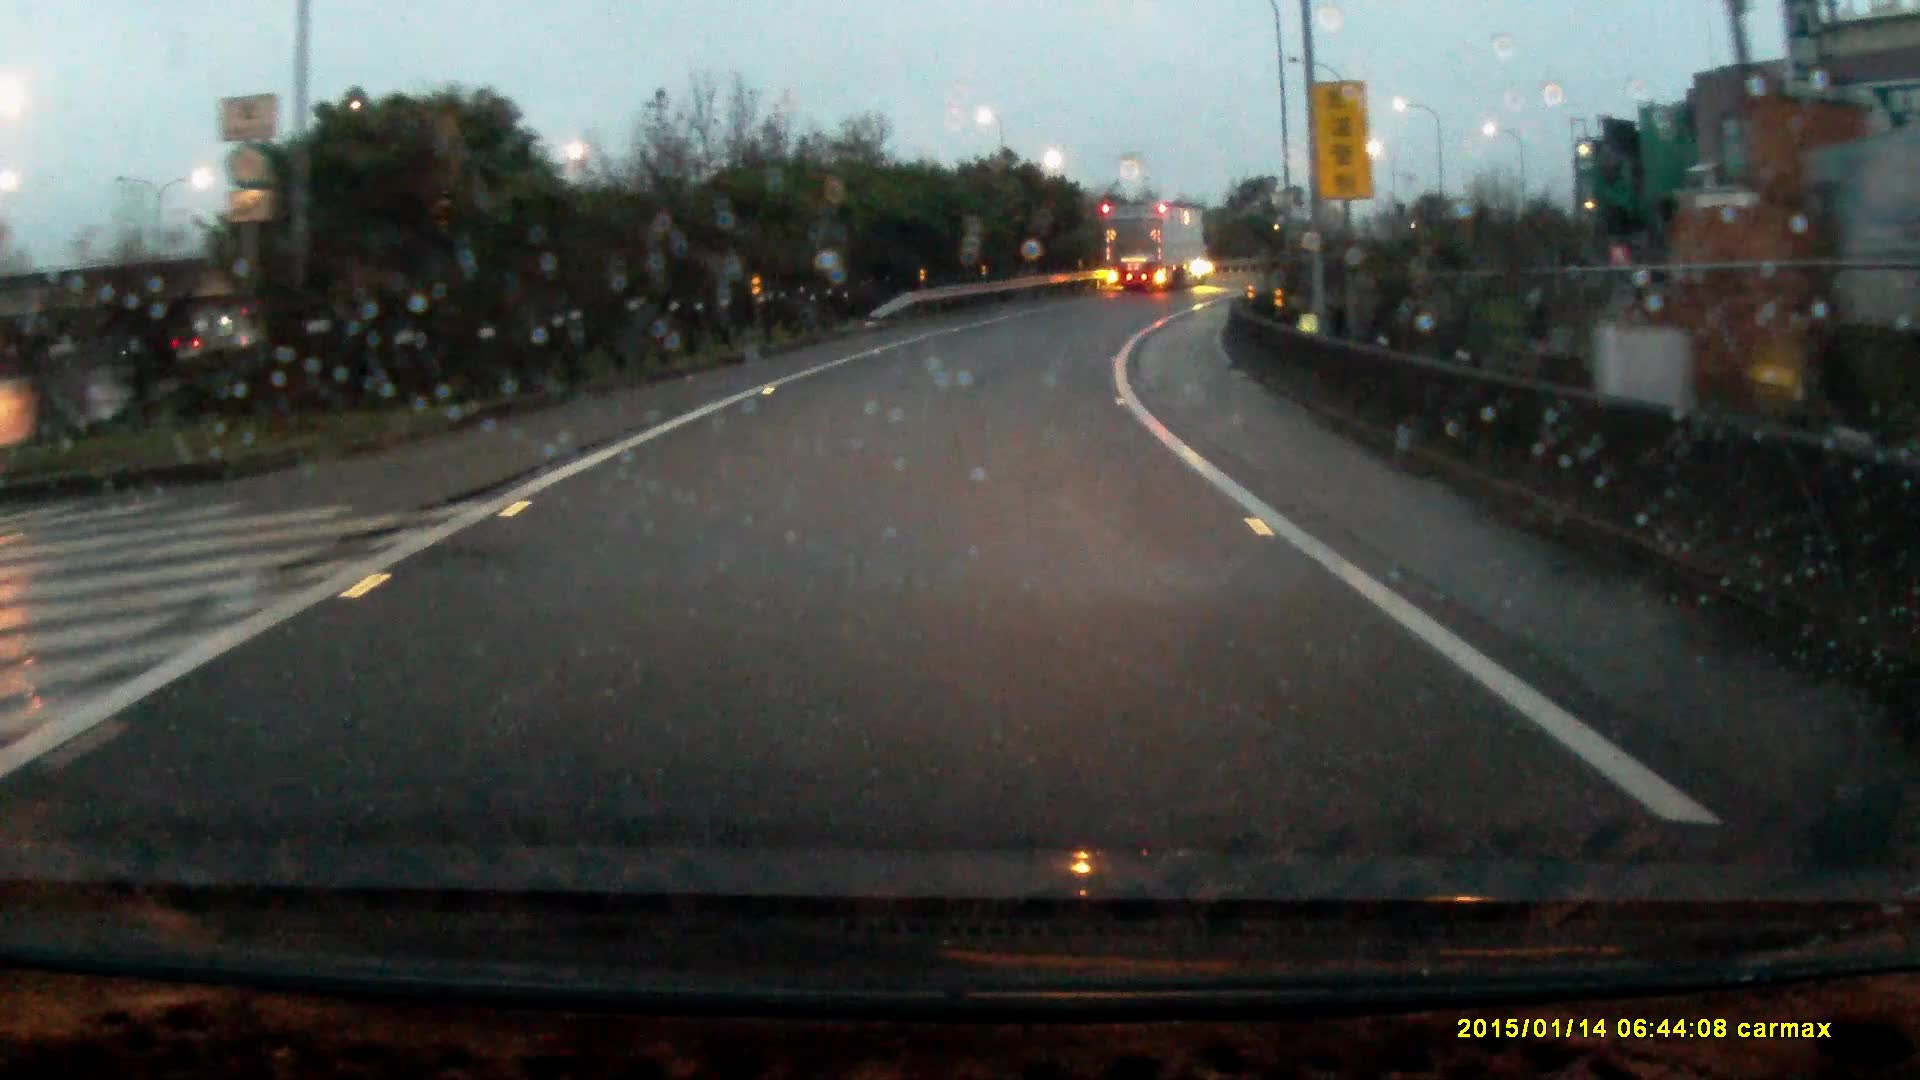vehicle: (1102, 202, 1211, 294)
